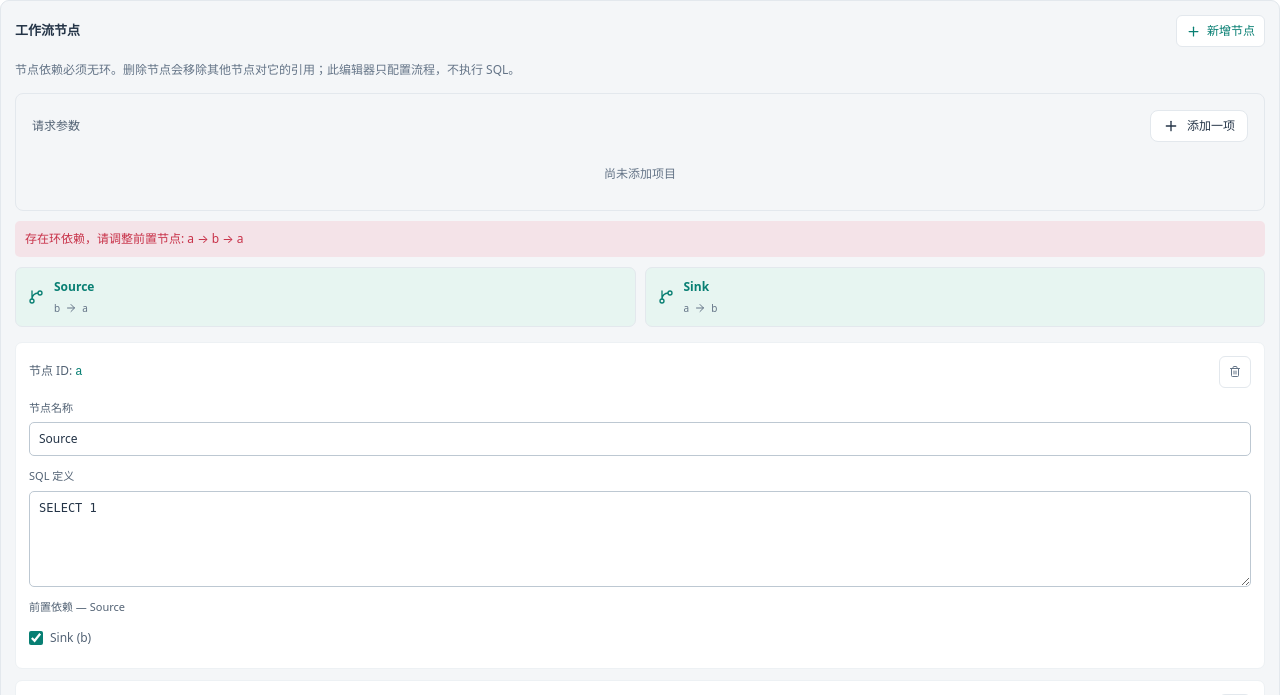
Test: Structured business configuration interactions › reports a workflow cycle and removes dependency references when a node is deleted
Expected: the message shows "存在环依赖", [25,230,181,247]
What coordinates should you click on to do the following:
click the button named "删除节点 Source"
I would click on:
 (1235, 372)
Its box is [1219,356,1251,388].
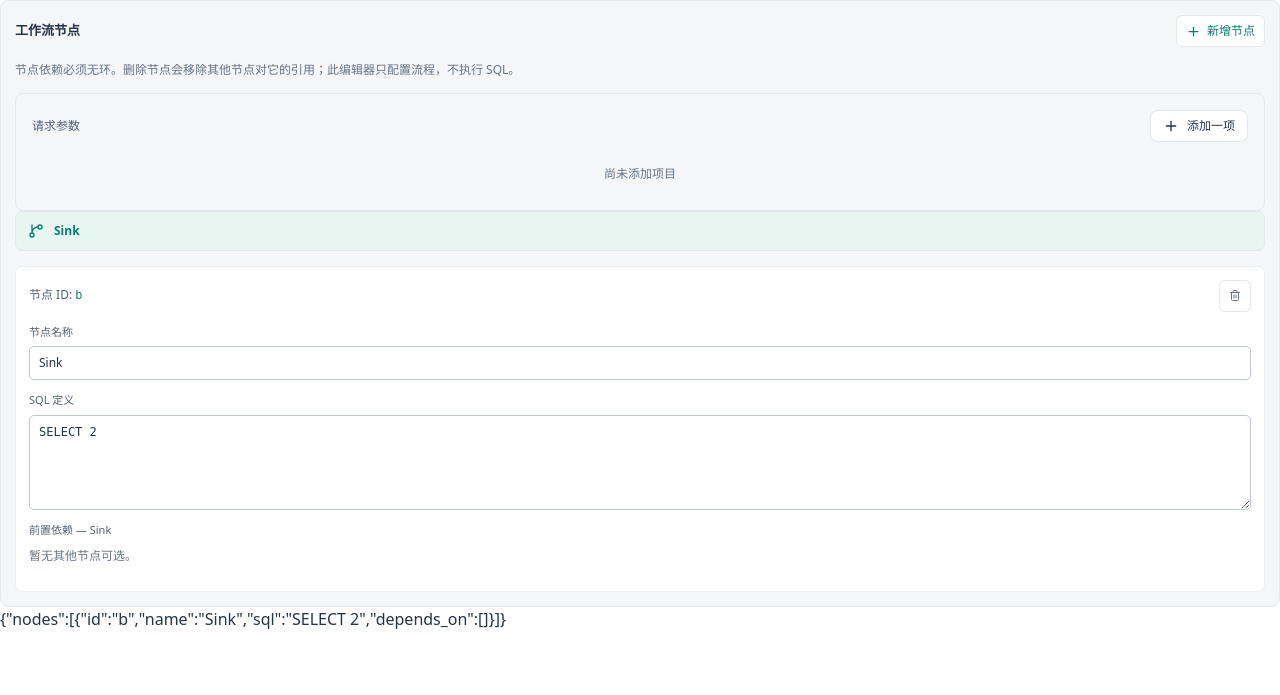
Expected: the message "存在环依赖，请调整前置节点: a → b → a" is gone
